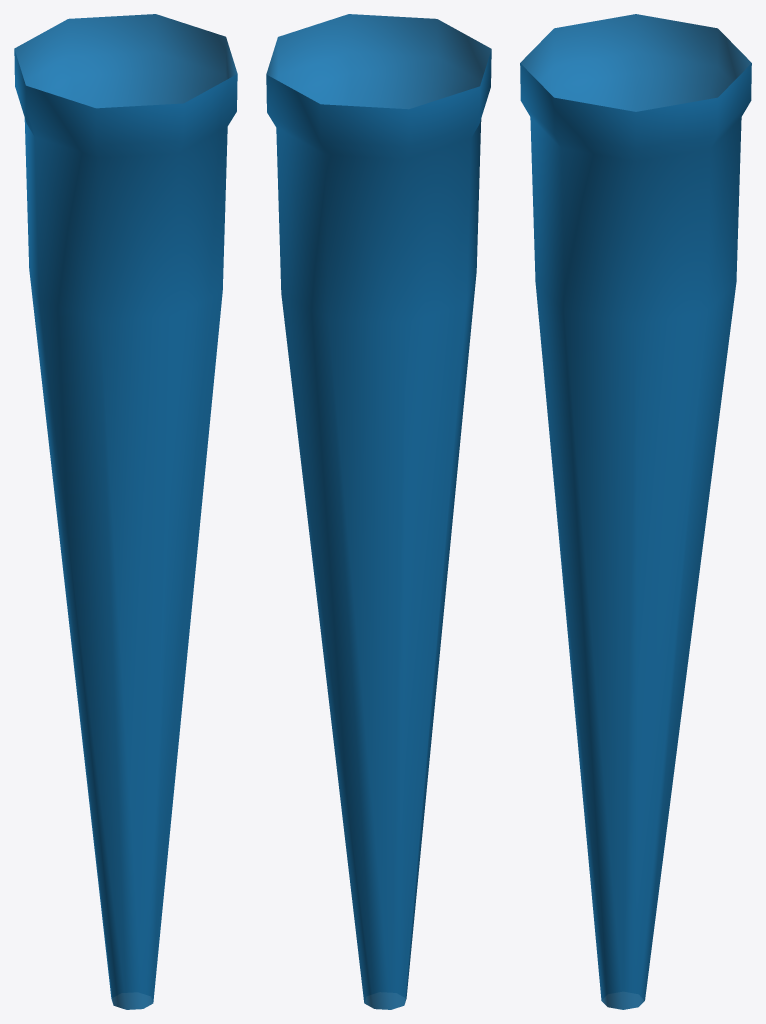
3 renders of one model, left to right at view 1: azimuth 30°, elevation 25°; view 2: azimuth 150°, elevation 25°; view 3: azimuth 270°, elevation 25°, orthographic.
Visible parts, largest first — view 1: 枪头盒_枪头; view 2: 枪头盒_枪头; view 3: 枪头盒_枪头.
Boxes of the visible parts, x1=… form: 枪头盒_枪头: x1=14, y1=14, x2=237, y2=1009; 枪头盒_枪头: x1=266, y1=14, x2=491, y2=1009; 枪头盒_枪头: x1=520, y1=14, x2=751, y2=1009.
Bounding box in the file's own units: 0.0083 × 0.037 × 0.0083.
1 material, 1 textured.
